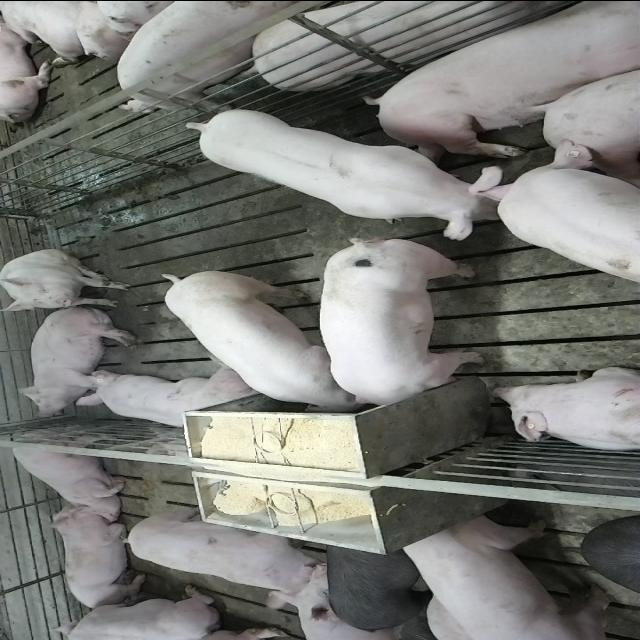Feeding: (159, 264, 363, 412), (318, 232, 484, 408)
Lateral_lying: (367, 5, 640, 160), (18, 304, 142, 416)
Sitting: (2, 248, 134, 311)
Standing: (186, 109, 522, 241), (250, 0, 610, 89), (395, 514, 622, 638), (110, 0, 308, 109), (112, 512, 332, 606), (496, 143, 640, 284), (320, 542, 440, 635)
Sternal_lying: (490, 366, 640, 454), (72, 367, 258, 431), (45, 506, 147, 610), (41, 584, 225, 638)
